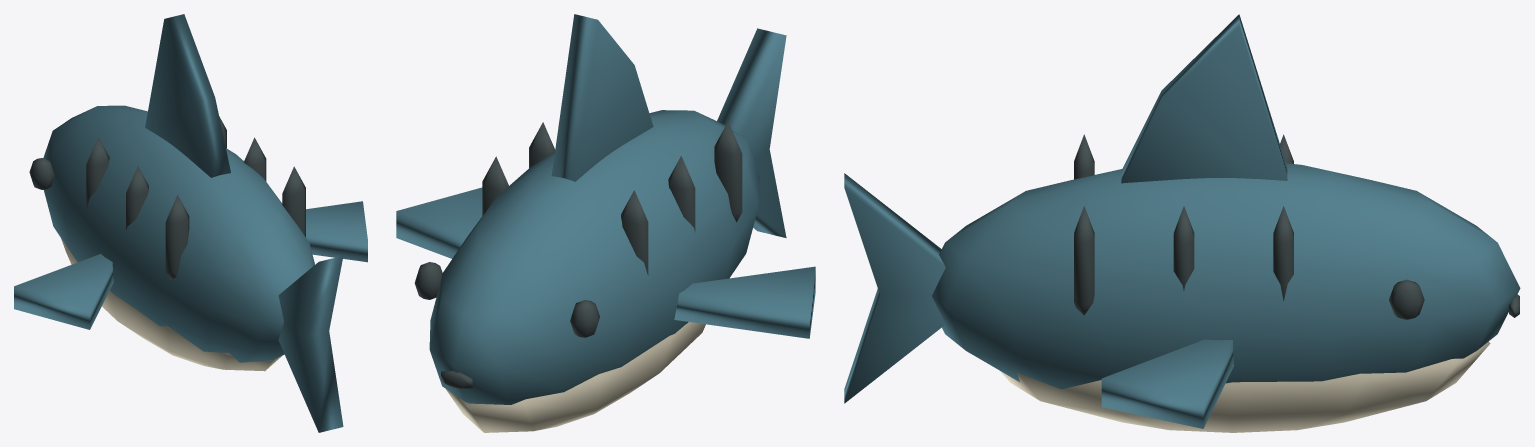
The model's file is fish_mackerel.glb.
3 views of the same model, side by side, from view 1: azimuth 30°, elevation 25°; view 2: azimuth 150°, elevation 25°; view 3: azimuth 270°, elevation 25° (orthographic). The views are drawn at different scales.
Bounding box in the file's own units: 0.225 × 0.197 × 0.3.
